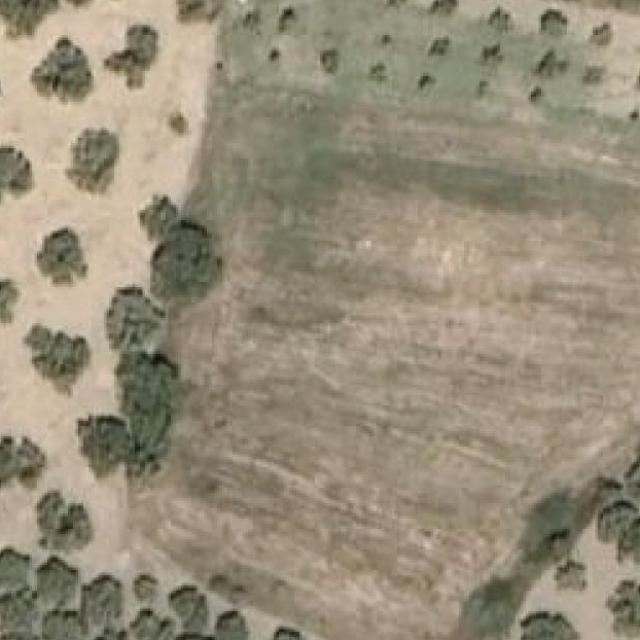Tree: (119, 352, 176, 475), (152, 218, 222, 295), (22, 323, 92, 398), (104, 24, 160, 92), (65, 128, 119, 195), (108, 287, 163, 347), (37, 227, 89, 287), (34, 498, 88, 547), (83, 416, 130, 472), (39, 43, 86, 95), (0, 436, 42, 488), (0, 0, 58, 37), (605, 580, 640, 640), (80, 578, 127, 622), (598, 498, 639, 547), (0, 146, 32, 208), (512, 611, 578, 640), (37, 560, 78, 604), (173, 588, 209, 626), (525, 49, 569, 80), (0, 594, 37, 630), (41, 611, 86, 640), (176, 0, 227, 23), (554, 563, 588, 597), (0, 550, 32, 586), (135, 611, 174, 640), (0, 279, 20, 325), (219, 614, 250, 640), (474, 45, 503, 71), (135, 575, 160, 604), (579, 64, 605, 89), (590, 23, 615, 48), (489, 9, 512, 33), (168, 110, 188, 136), (430, 0, 456, 20), (427, 38, 451, 59), (543, 12, 567, 33), (320, 48, 339, 74), (279, 7, 297, 33), (267, 628, 305, 640), (418, 74, 436, 90), (82, 634, 126, 640), (178, 634, 219, 640), (3, 637, 39, 640)
